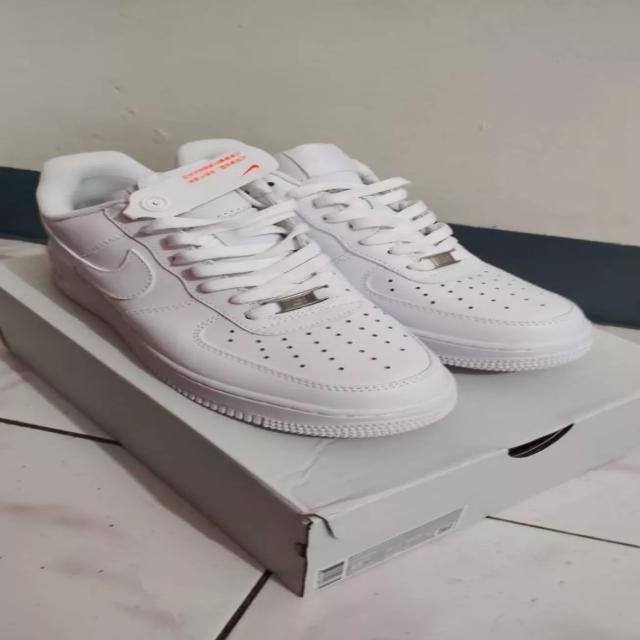nike original air force: (3, 145, 460, 436), (222, 145, 601, 375)
